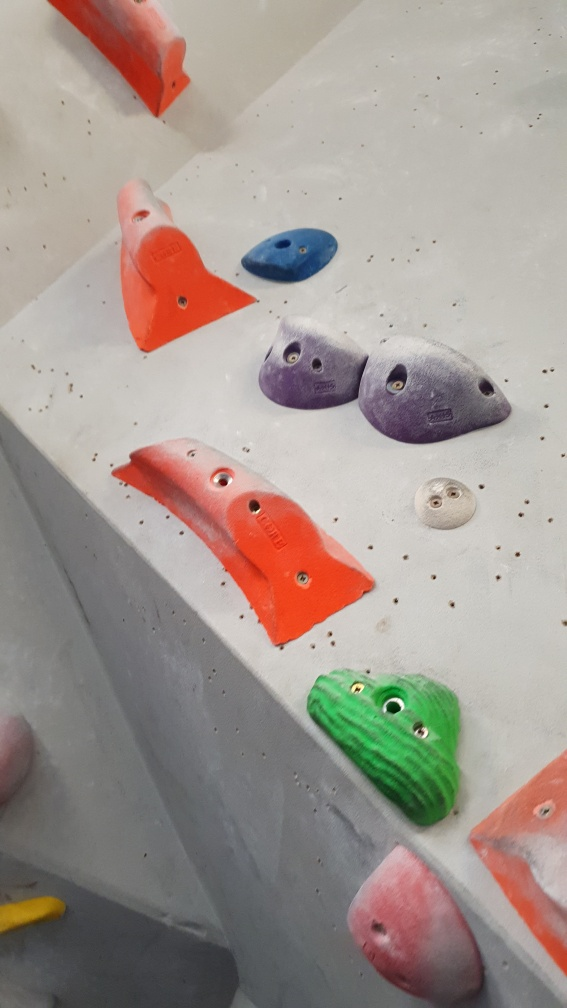Jug: (304, 660, 465, 833), (357, 333, 513, 444), (255, 311, 367, 412)
Pinch: (113, 434, 381, 645), (114, 172, 257, 359), (45, 1, 199, 119)
Sloper: (341, 851, 486, 1002)
